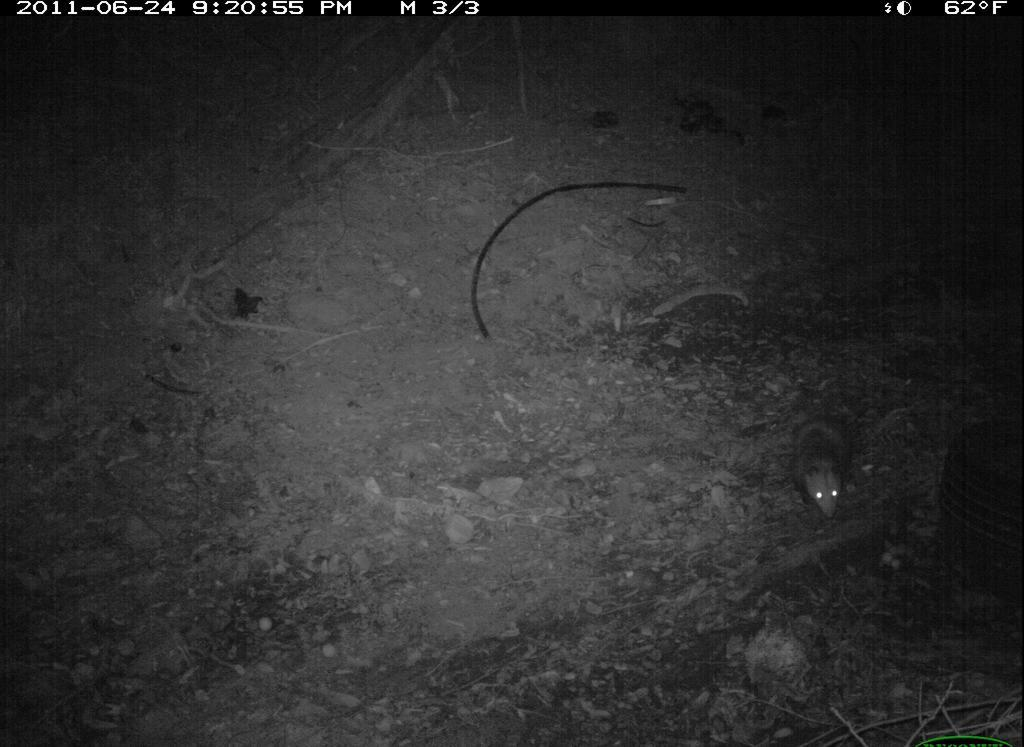opossum: (788, 390, 866, 537)
